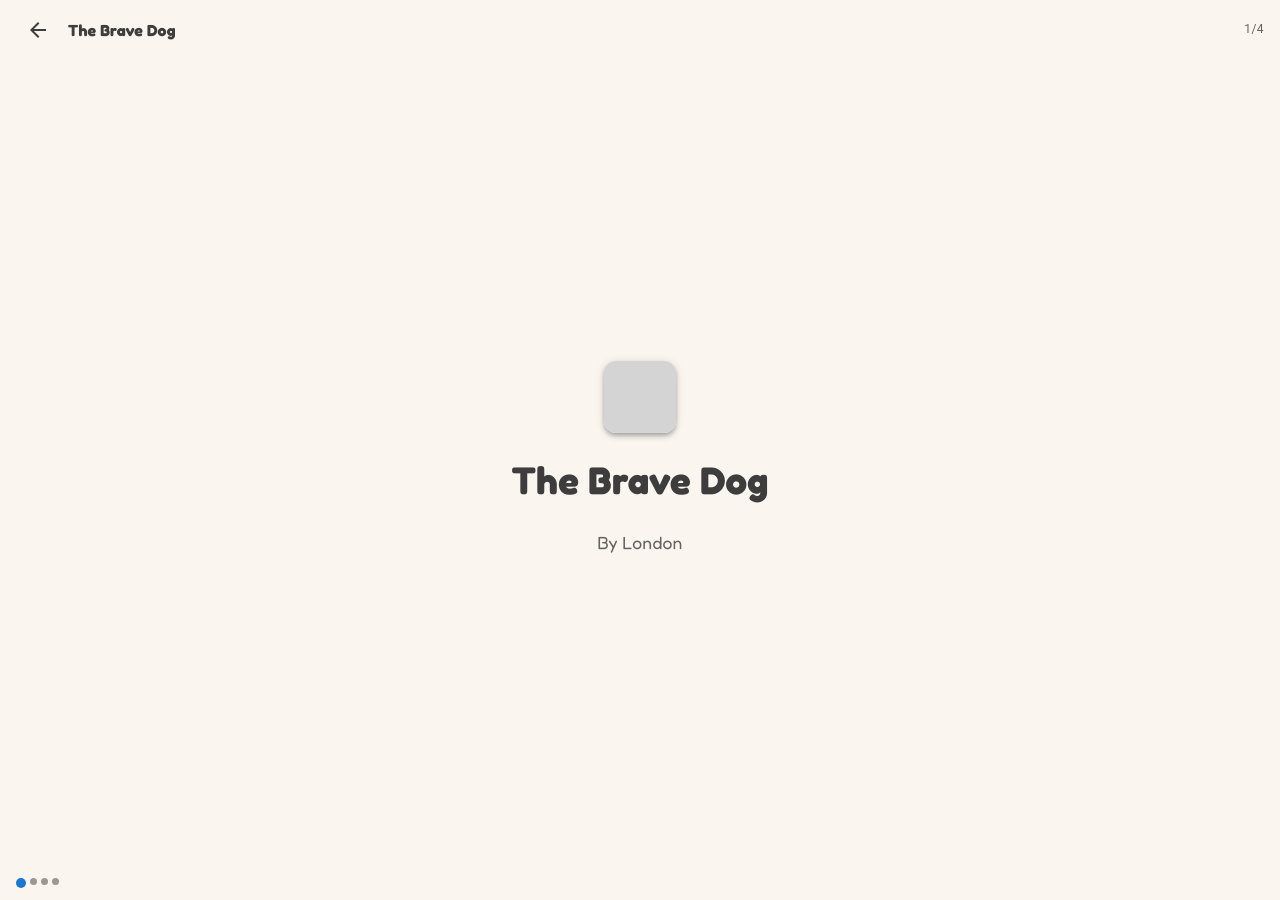
Scenario: BookReaderPage — Story Call mode › tapping an audience chip records who they read to
Click the button named "go to page" at (56, 882), box x1=52 y1=878 x2=59 y2=885
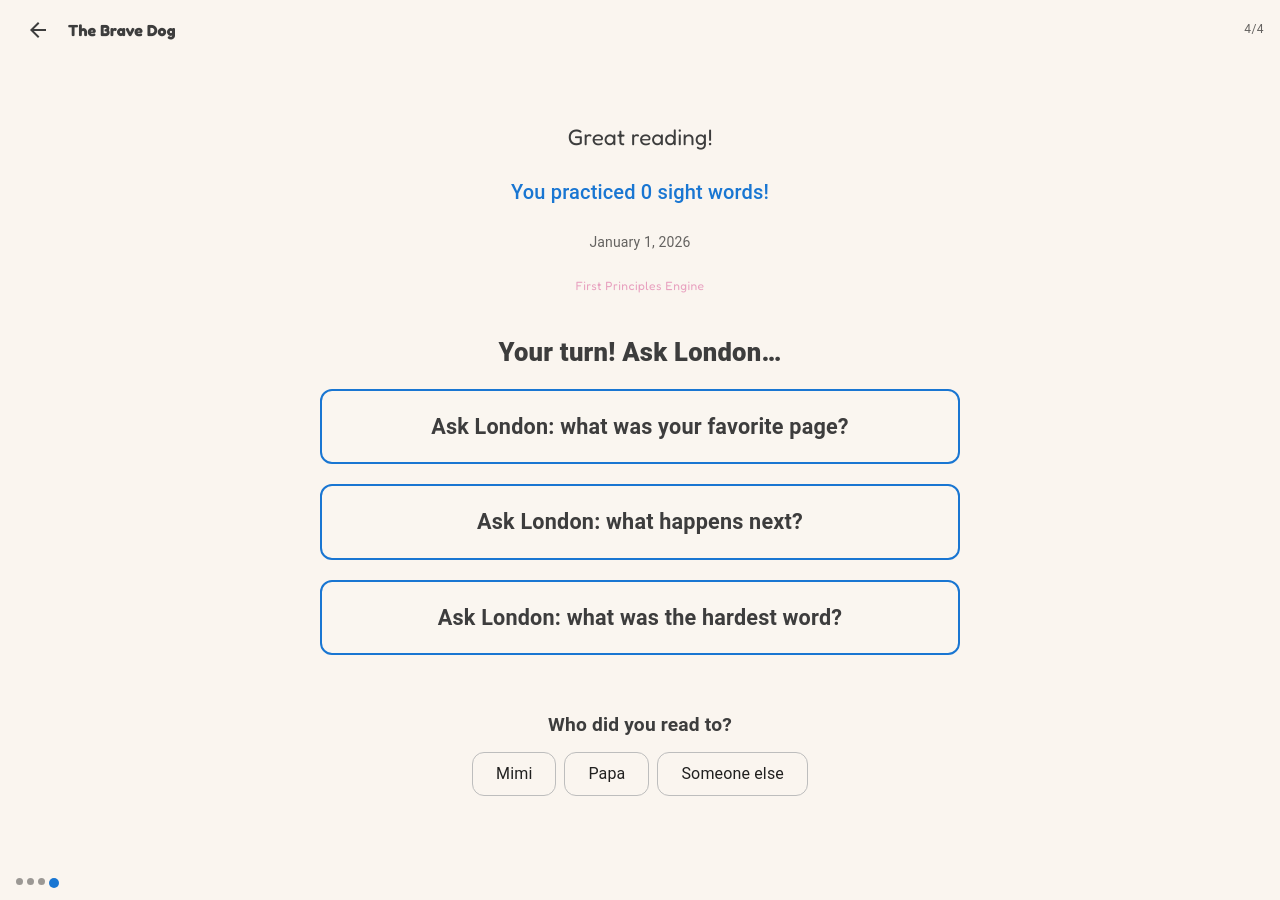
Click the button "Mimi" at (514, 774), box x1=472 y1=752 x2=556 y2=796
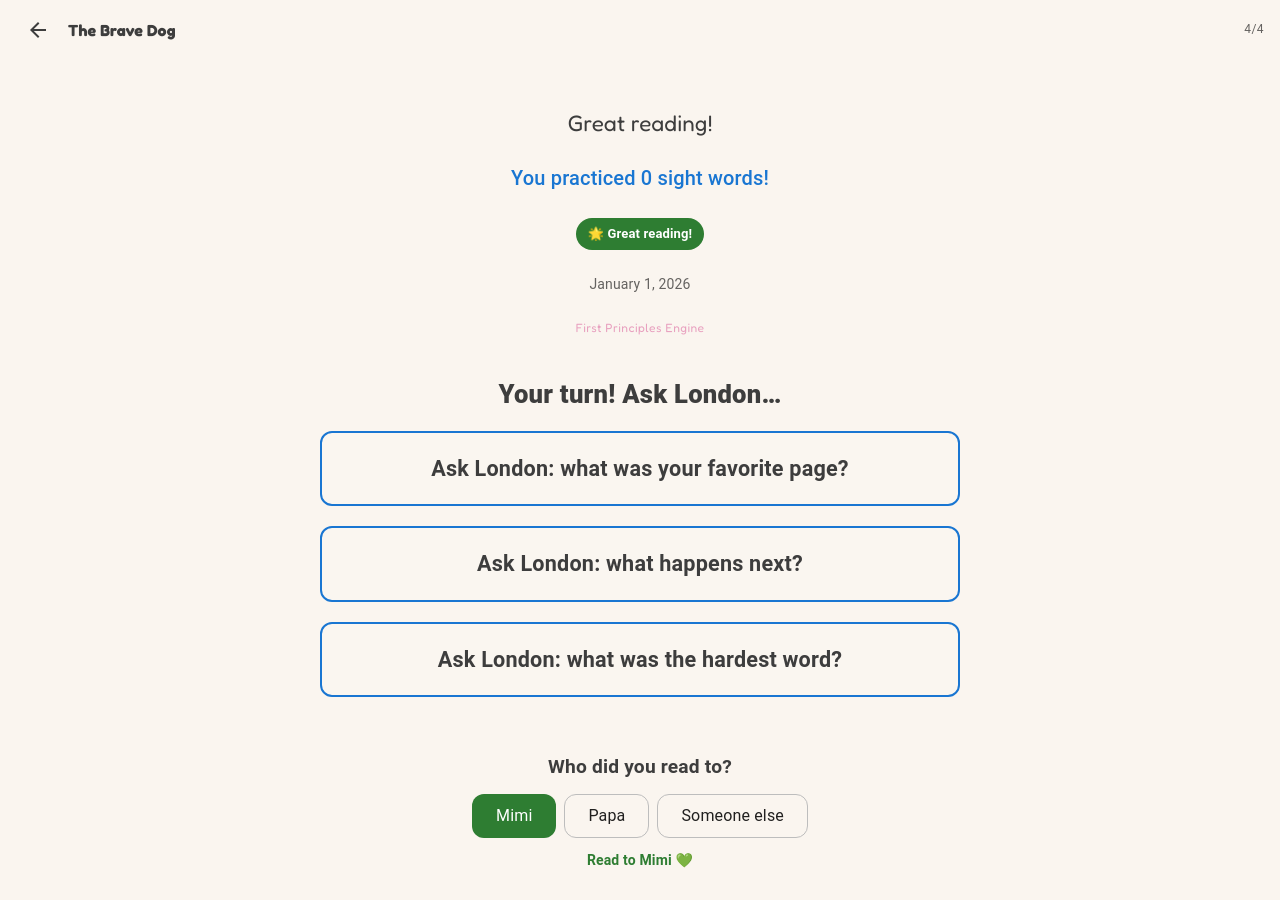
Expected: the text "Read to Mimi 💚" is shown, x1=587 y1=850 x2=693 y2=870
